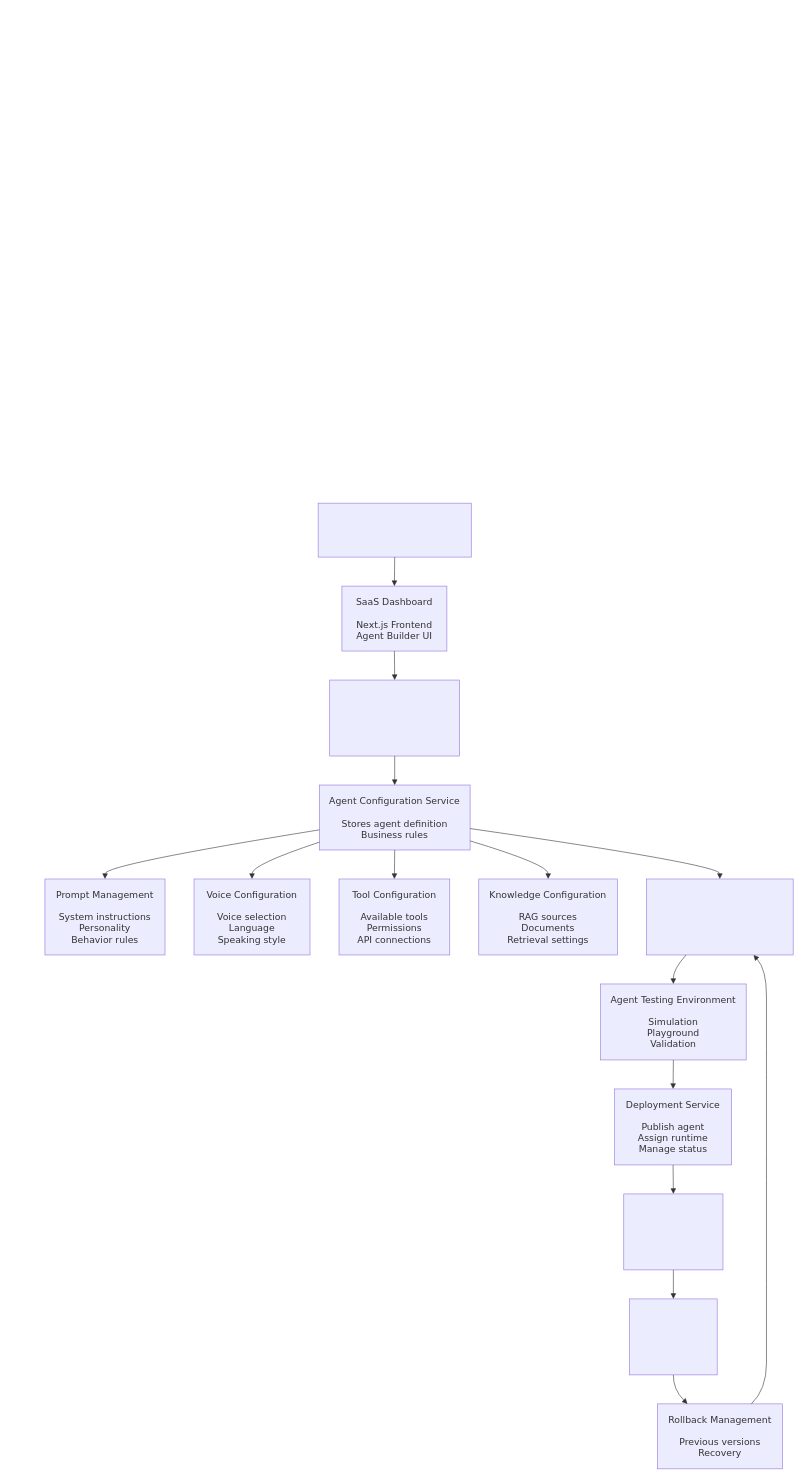
This 803x1479 diagram has some shape labels left out. Here are the shapes that lost their labels. From the top down, the centre of each, then its label:
At (394,530): "Business User Creates and manages agents".
At (394,717): "Agent Management API FastAPI CRUD operations Agent control".
At (719,916): "Agent Version Management Versions Changes History".
At (673,1231): "Agent Runtime LiveKit Workers LangGraph Tools".
At (673,1336): "Monitoring Performance Errors Usage".
